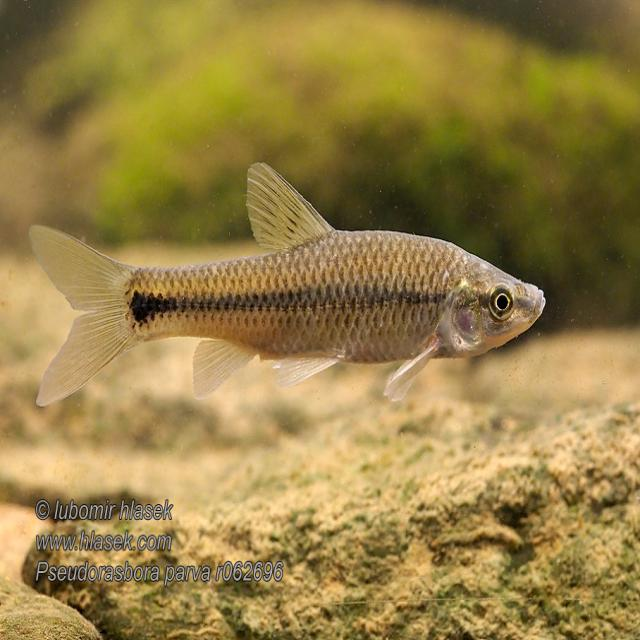Cakil Baligi: (25, 158, 553, 413)
